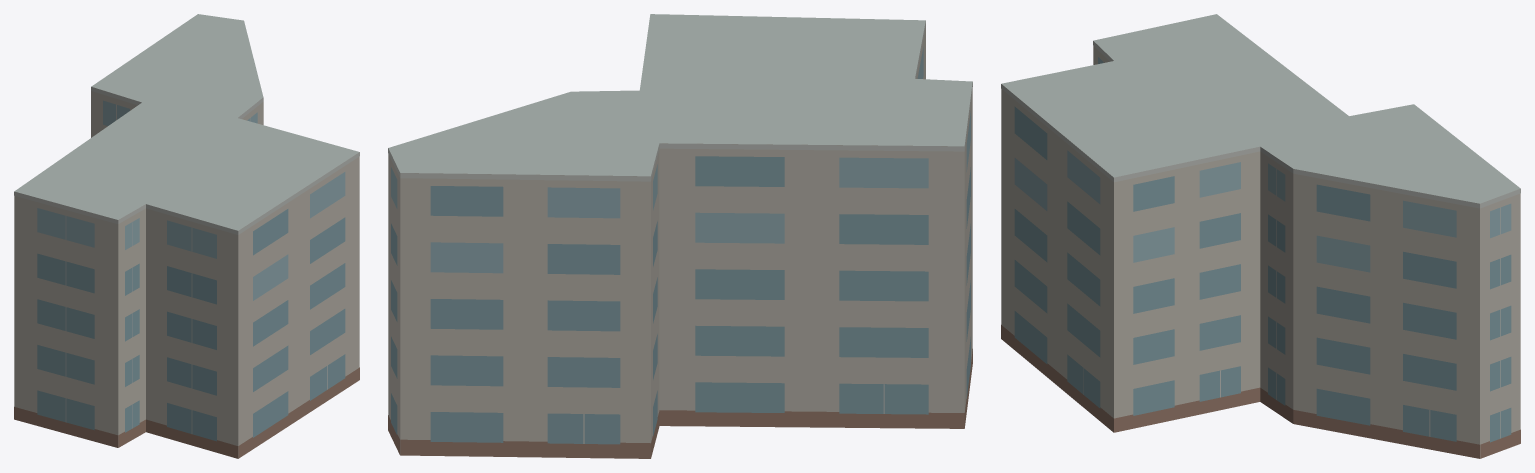
File: survey-upis-32579499.glb
3 renders of one model, left to right at view 1: azimuth 30°, elevation 25°; view 2: azimuth 150°, elevation 25°; view 3: azimuth 270°, elevation 25°, orthographic. The views are drawn at different scales.
Visible parts, largest first — view 1: survey-upis-32579499.tmp; view 2: survey-upis-32579499.tmp; view 3: survey-upis-32579499.tmp.
Boxes of the visible parts, left/top/right/bottom form: survey-upis-32579499.tmp: left=14, top=14, right=359, bottom=458; survey-upis-32579499.tmp: left=388, top=14, right=972, bottom=458; survey-upis-32579499.tmp: left=1001, top=14, right=1520, bottom=458.
Bounding box in the file's own units: 20.74 × 13 × 24.
